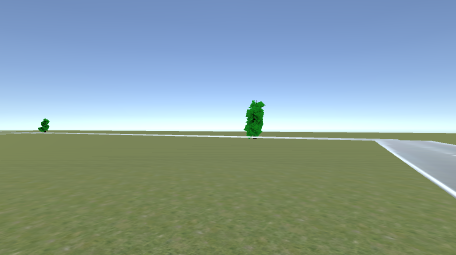tree: (244, 100, 266, 138), (38, 118, 50, 133)
